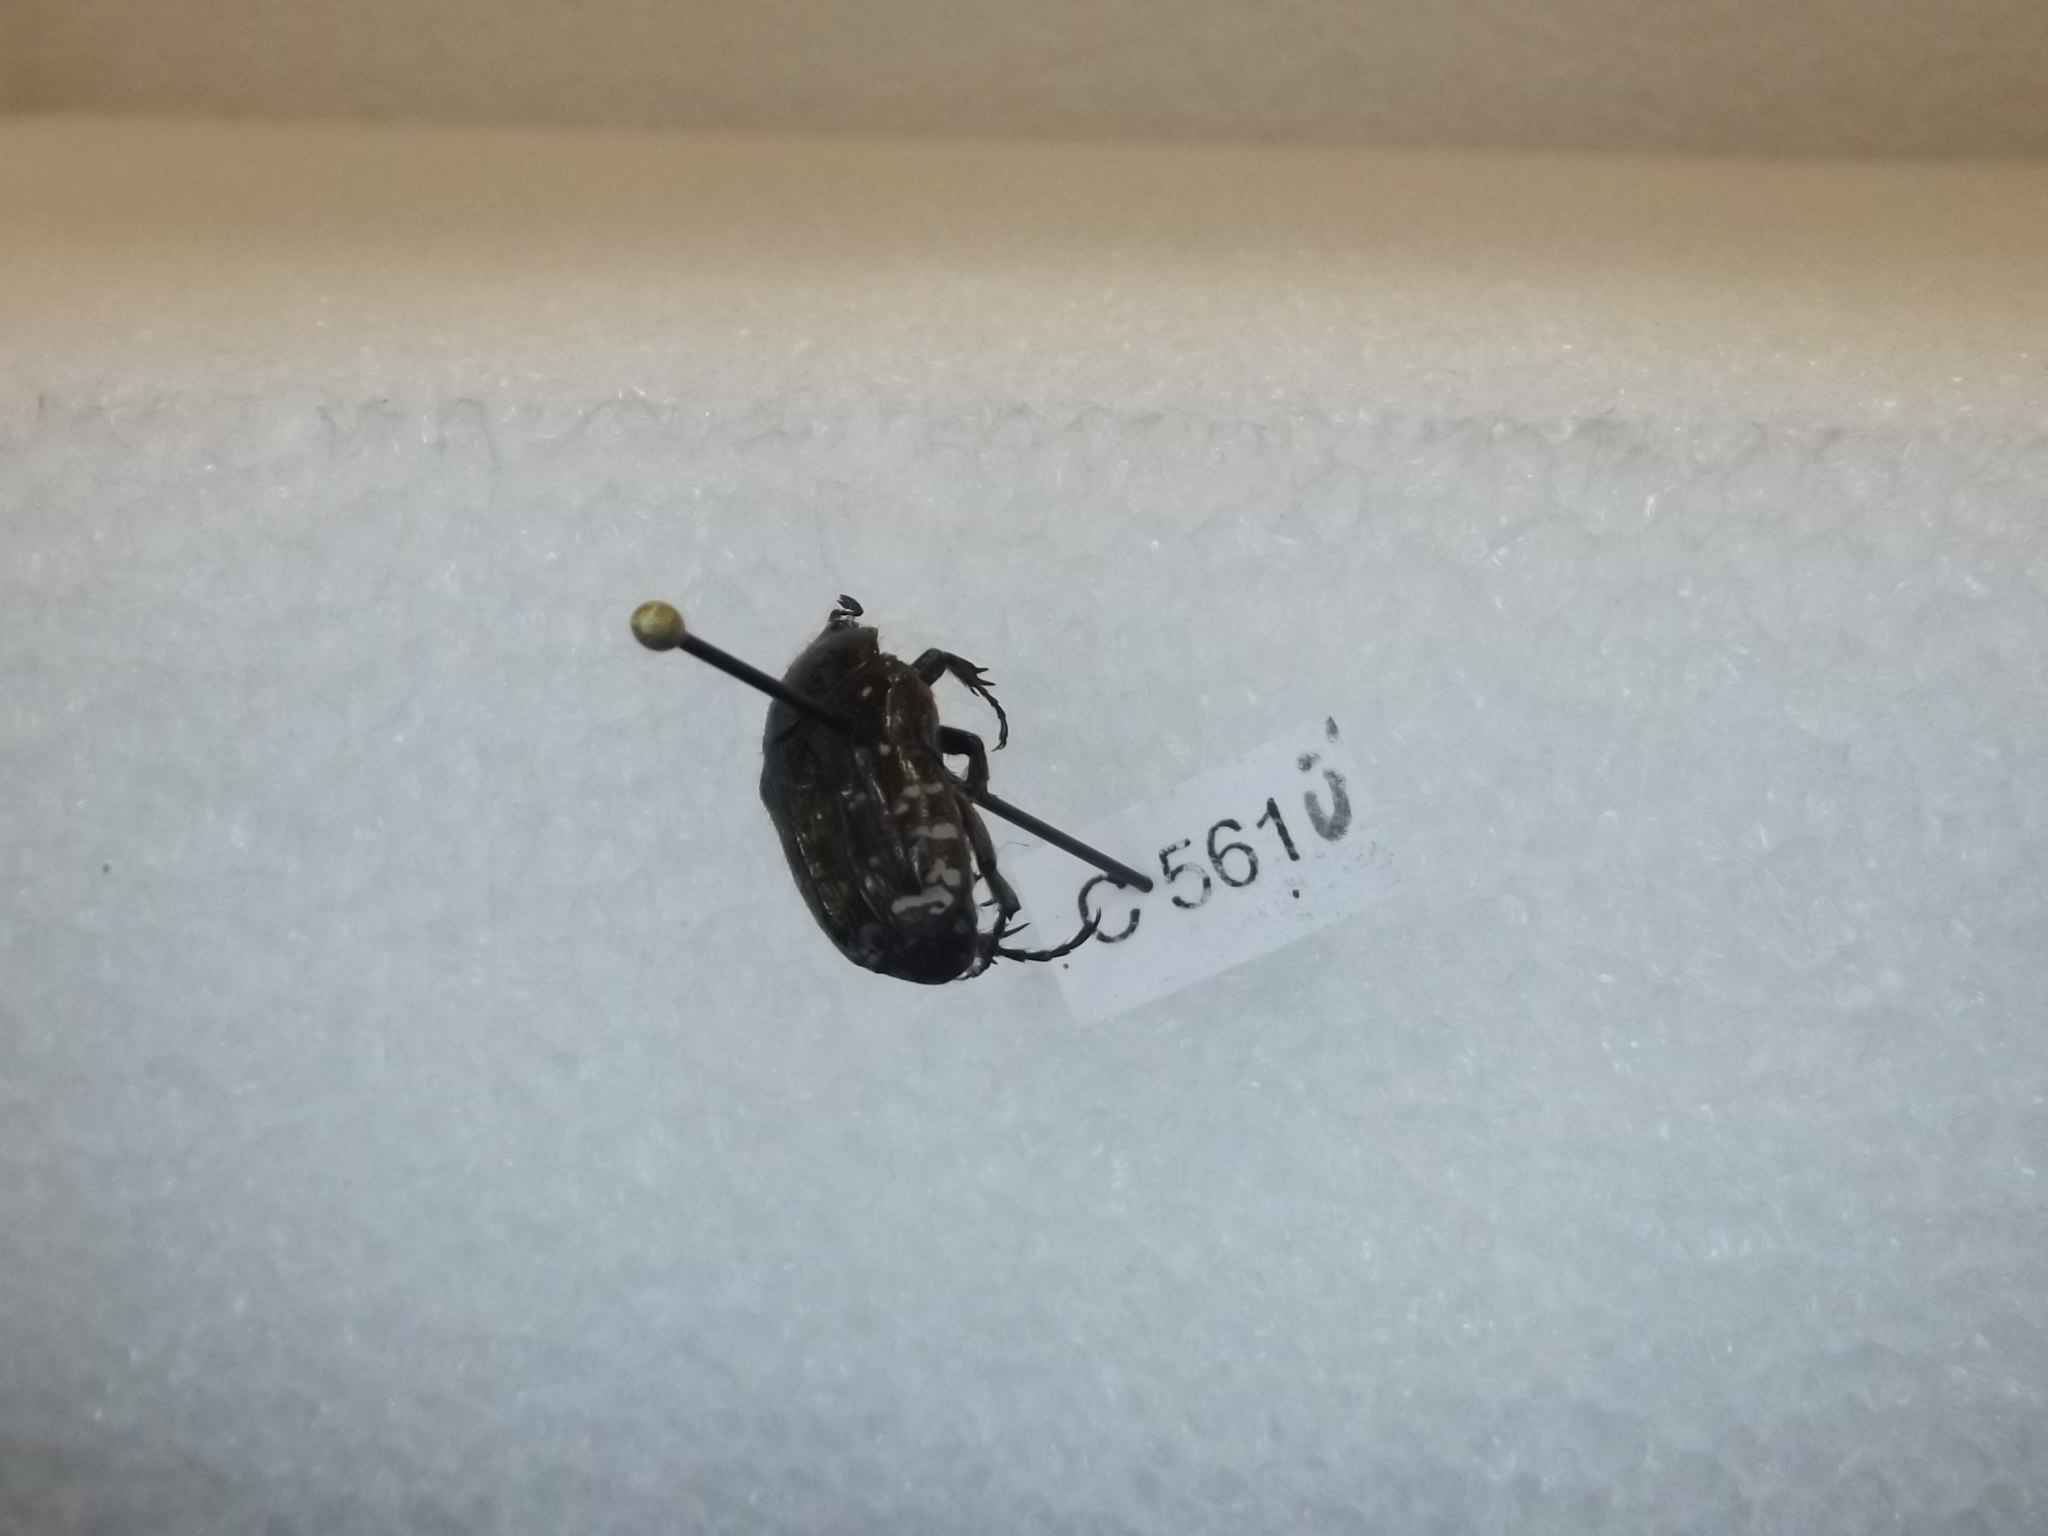Oxythyrea_albopicta: (742, 582, 1109, 1029)
